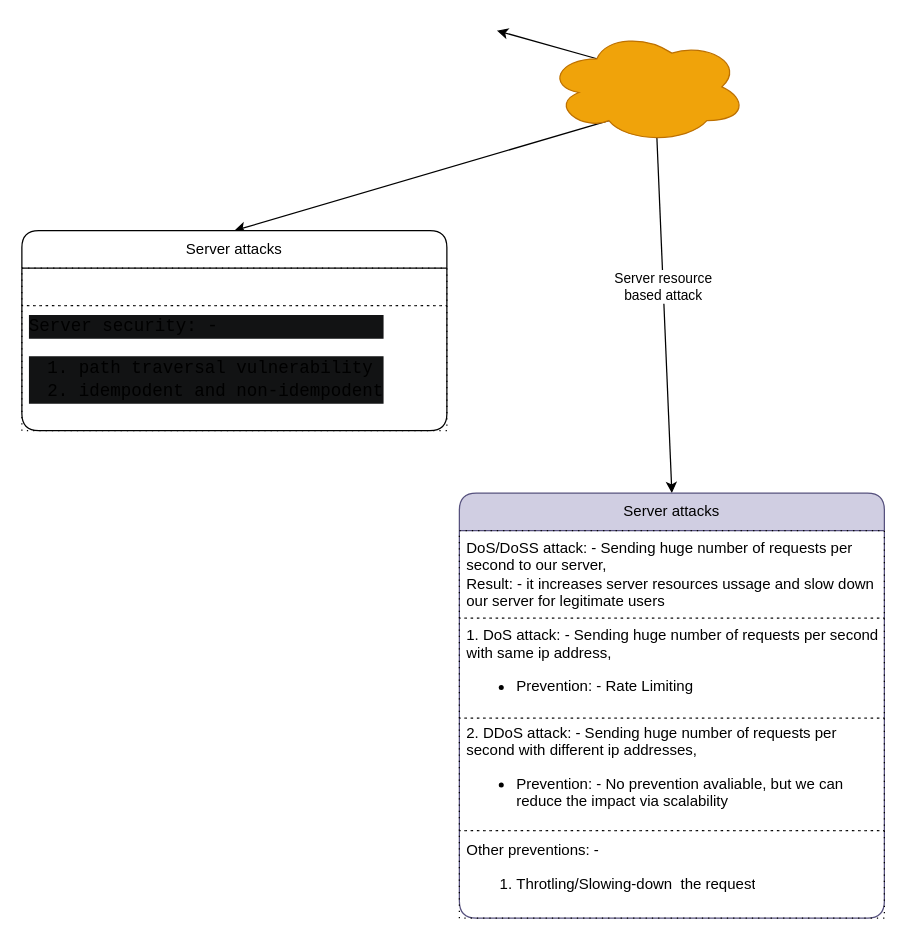
This 906x940 diagram has some shape labels left out. The shapes that lost their labels are listed below. From the top down, each one's box as (x1, y1, x2, y2) in pixels, then its label:
(546, 29, 747, 143): Server Security
(21, 267, 447, 306): 5. Security misconfiguraiton: -
